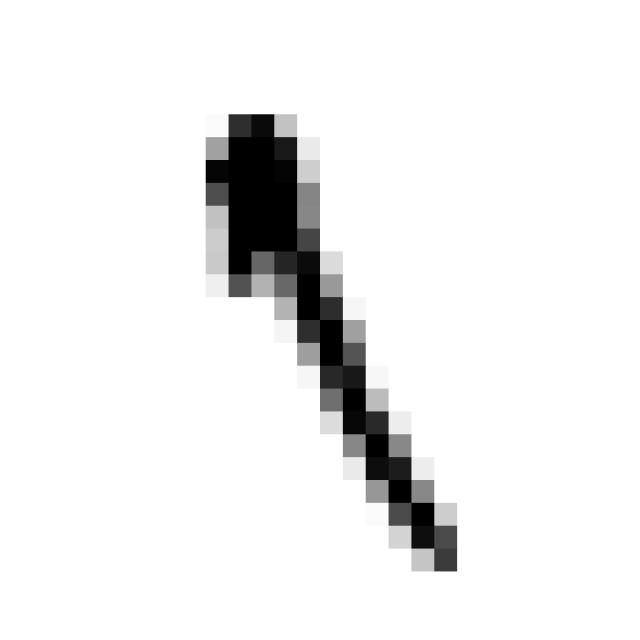1 -one-: (183, 93, 475, 590)
